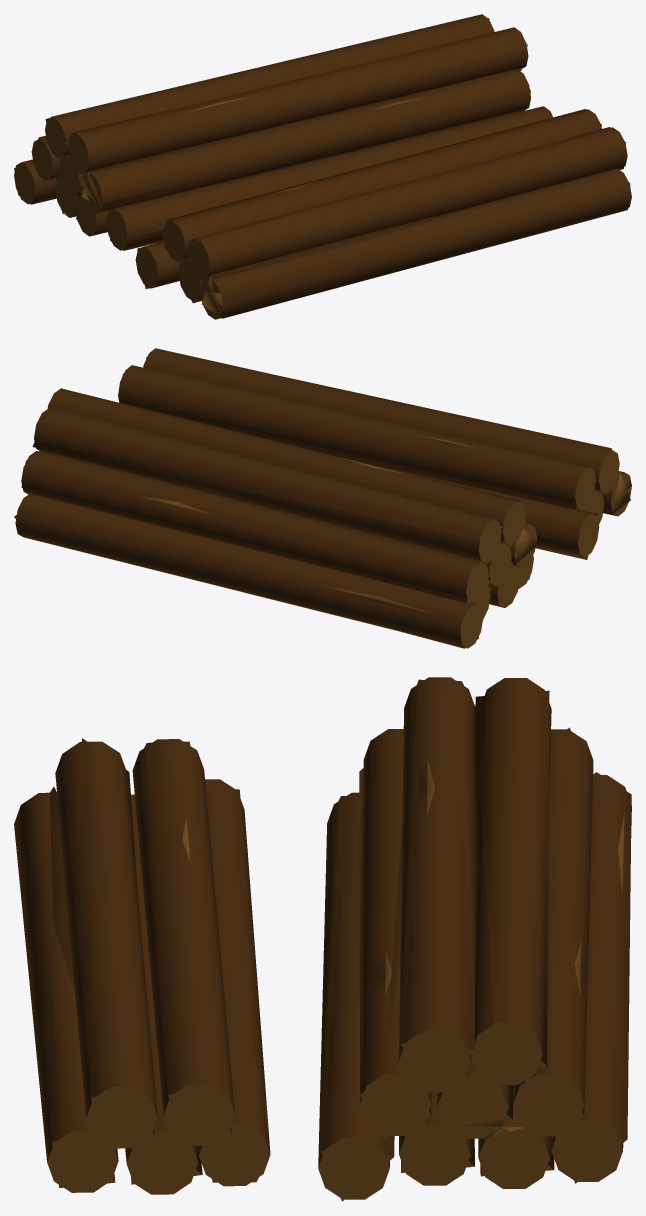
Rendered from Logs.fbx.
The picture shows the model from 3 angles, top to bottom: view 1: azimuth 30°, elevation 25°; view 2: azimuth 150°, elevation 25°; view 3: azimuth 270°, elevation 25°; orthographic projection. The views are drawn at different scales.
Visible parts, largest first — view 1: High_Logs, Low_Logs; view 2: High_Logs, Low_Logs; view 3: High_Logs, Low_Logs.
Part boxes in pixels (x1,y1,x2,y2): High_Logs: (14, 14, 631, 319); Low_Logs: (14, 18, 630, 318); High_Logs: (15, 348, 631, 648); Low_Logs: (14, 356, 630, 648); High_Logs: (14, 677, 631, 1199); Low_Logs: (45, 679, 631, 1201).
Bounding box in the file's own units: 116 × 25.78 × 83.52.
